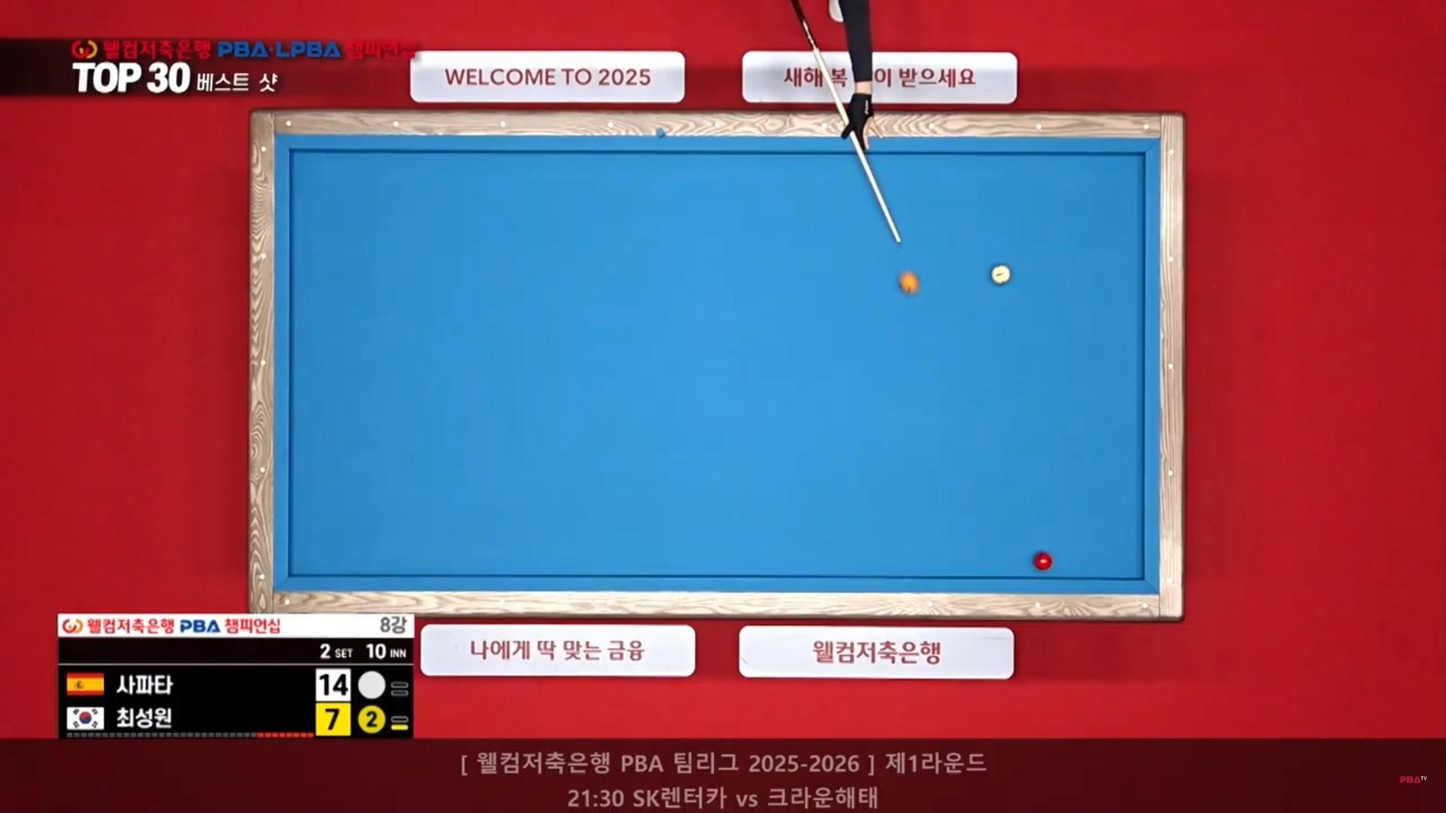Red: (1033, 555, 1055, 572)
White: (992, 265, 1016, 286)
billiard-ball-Yellow: (894, 272, 922, 297)
